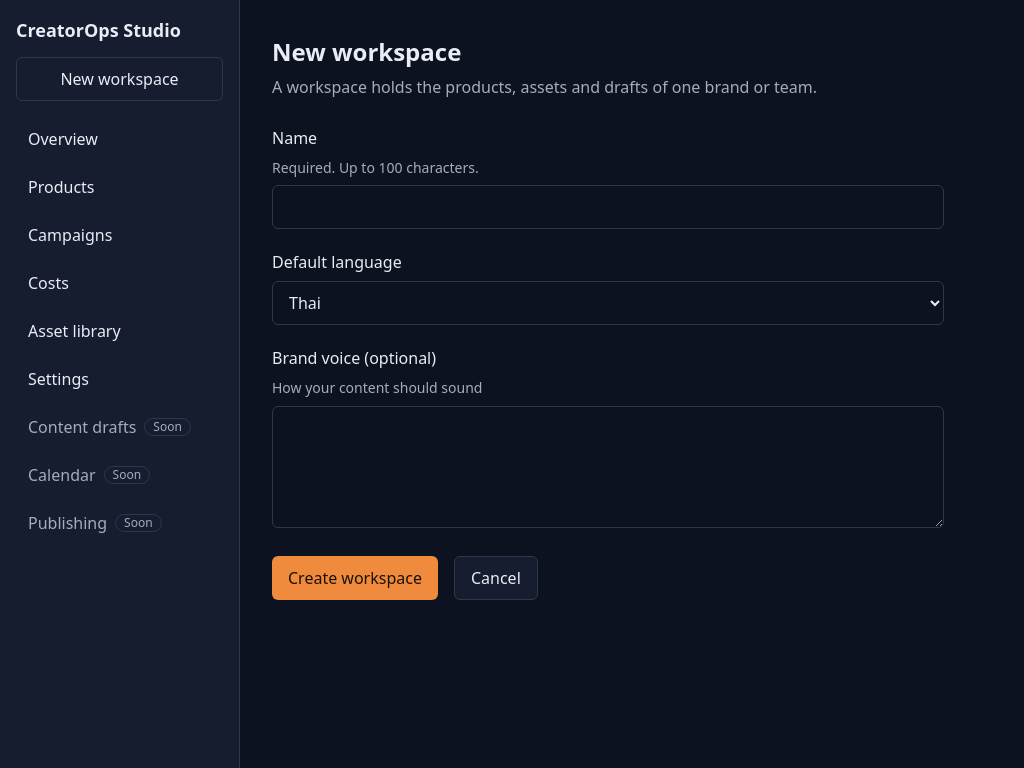
Scenario: NewWorkspacePage › creates the workspace with a Thai name, refreshes the list and opens its products
In the field labelled "Name": [608, 207] box [272,185,944,229], type "ร้านสมชาย"
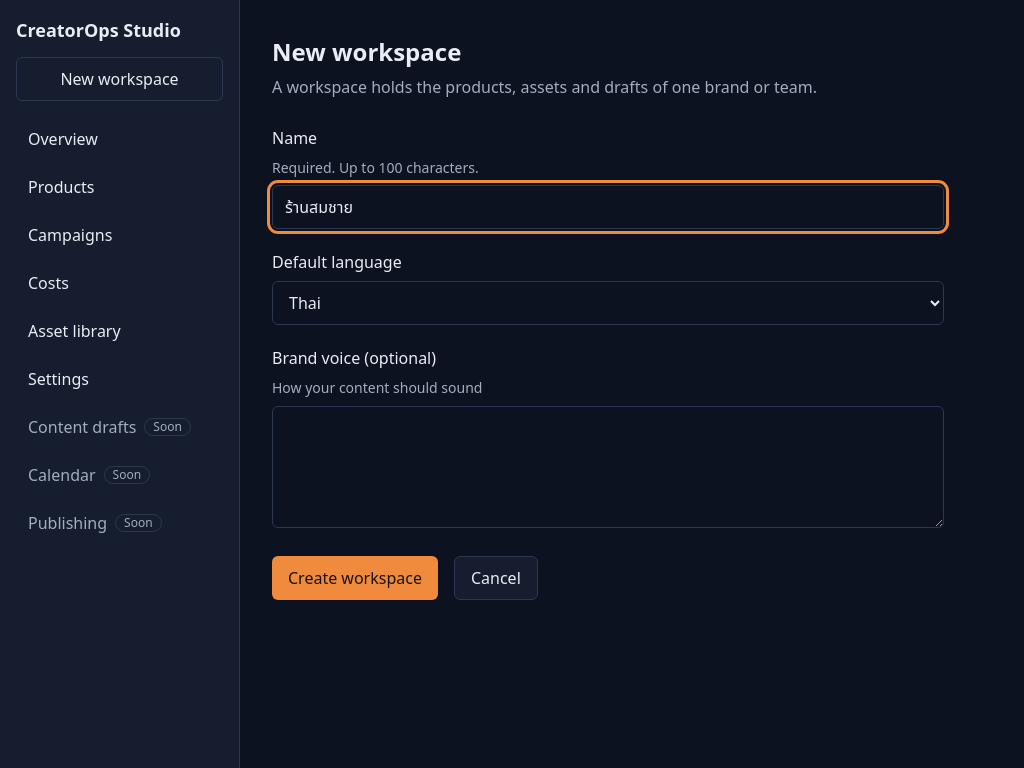
Click the button "Create workspace": [355, 578] box [272,556,438,600]
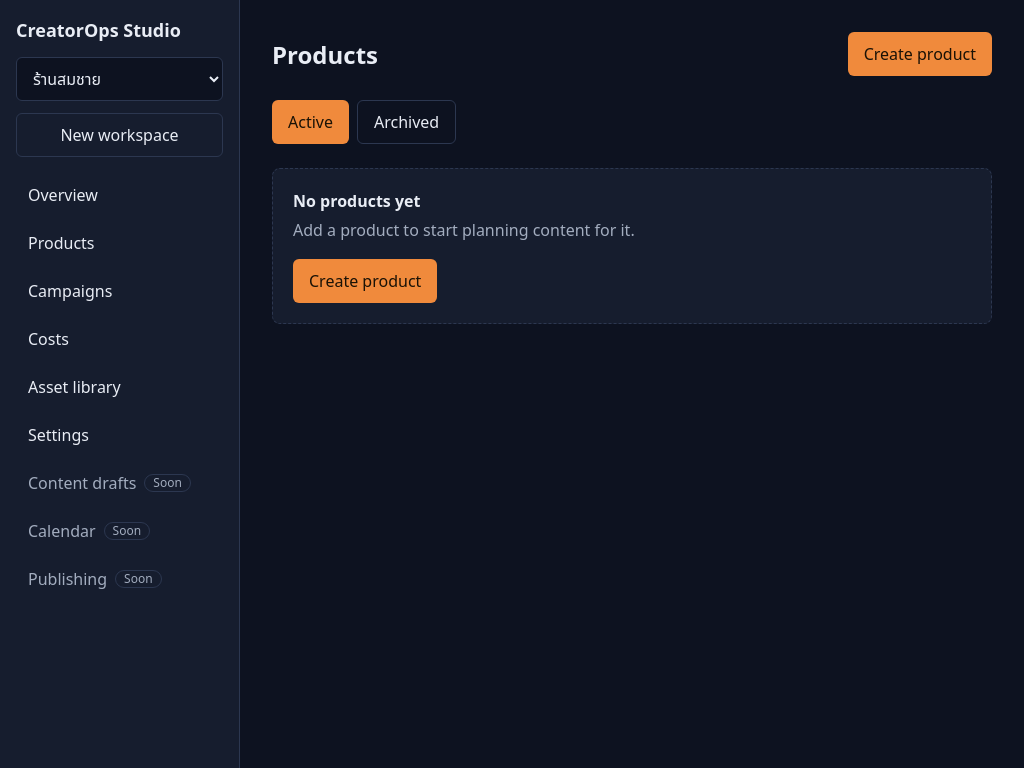
Expected: the heading "No products yet" is shown, [293,190,420,212]
